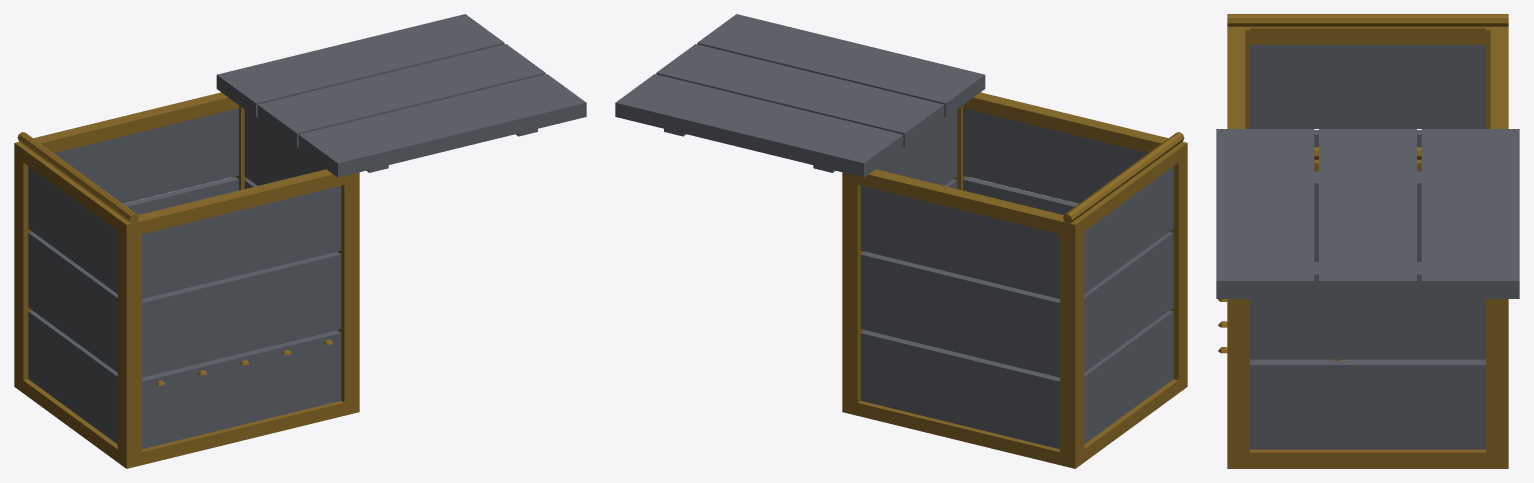
File: SM_Crate_Dvergr_08_Open.glb
3 renders of one model, left to right at view 1: azimuth 30°, elevation 25°; view 2: azimuth 150°, elevation 25°; view 3: azimuth 270°, elevation 25°, orthographic. The views are drawn at different scales.
Parts seen in each view (by area): view 1: SM_Crate_Dvergr_08_Open_Panels, SM_Crate_Dvergr_08_Open_LidSlid, SM_Crate_Dvergr_08_Open_Frame, SM_Crate_Dvergr_08_Open_RailL; view 2: SM_Crate_Dvergr_08_Open_Panels, SM_Crate_Dvergr_08_Open_LidSlid, SM_Crate_Dvergr_08_Open_Frame, SM_Crate_Dvergr_08_Open_RailL; view 3: SM_Crate_Dvergr_08_Open_Panels, SM_Crate_Dvergr_08_Open_LidSlid, SM_Crate_Dvergr_08_Open_Frame, SM_Crate_Dvergr_08_Open_RailL.
Part boxes in pixels (x1=…): SM_Crate_Dvergr_08_Open_Panels: x1=28, y1=108, x2=341, y2=449; SM_Crate_Dvergr_08_Open_LidSlid: x1=216, y1=14, x2=586, y2=177; SM_Crate_Dvergr_08_Open_Frame: x1=14, y1=92, x2=359, y2=468; SM_Crate_Dvergr_08_Open_RailL: x1=17, y1=132, x2=138, y2=223; SM_Crate_Dvergr_08_Open_Panels: x1=860, y1=108, x2=1173, y2=449; SM_Crate_Dvergr_08_Open_LidSlid: x1=615, y1=14, x2=985, y2=177; SM_Crate_Dvergr_08_Open_Frame: x1=842, y1=92, x2=1187, y2=468; SM_Crate_Dvergr_08_Open_RailL: x1=1063, y1=132, x2=1184, y2=223; SM_Crate_Dvergr_08_Open_Panels: x1=1250, y1=44, x2=1485, y2=449; SM_Crate_Dvergr_08_Open_LidSlid: x1=1216, y1=129, x2=1519, y2=298; SM_Crate_Dvergr_08_Open_Frame: x1=1227, y1=26, x2=1508, y2=468; SM_Crate_Dvergr_08_Open_RailL: x1=1227, y1=14, x2=1508, y2=26.
Size of the model in its own units: 1.17 by 0.6355 by 0.54.
